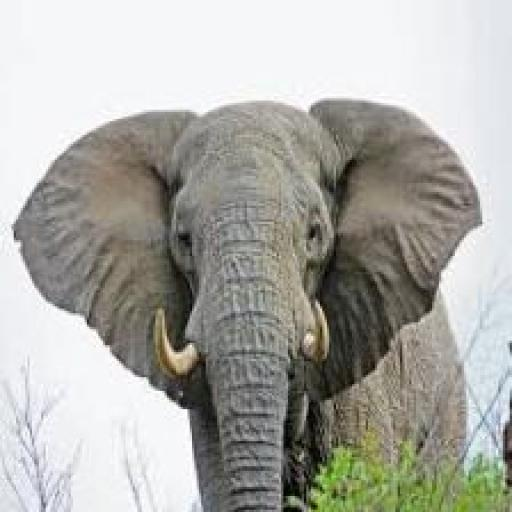Elephant: (0, 50, 510, 512)
